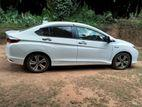car: (5, 21, 139, 73)
